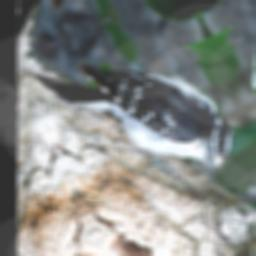Woodpecker: (31, 9, 251, 233)
